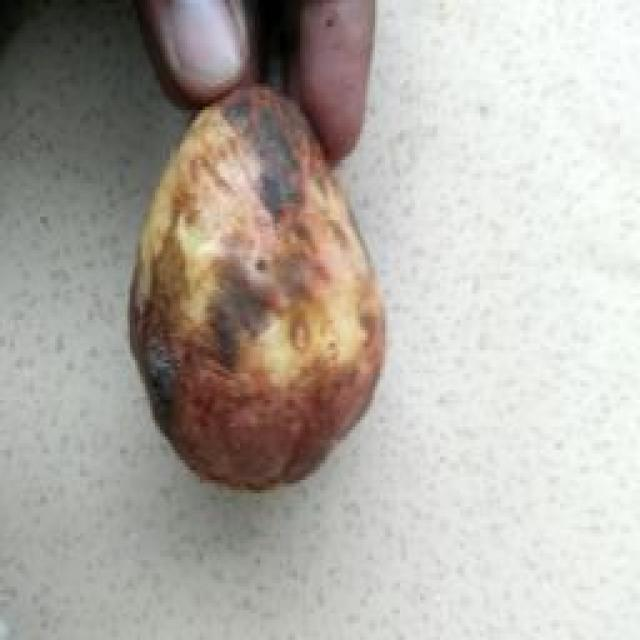Bad_Guava: (130, 87, 385, 488)
